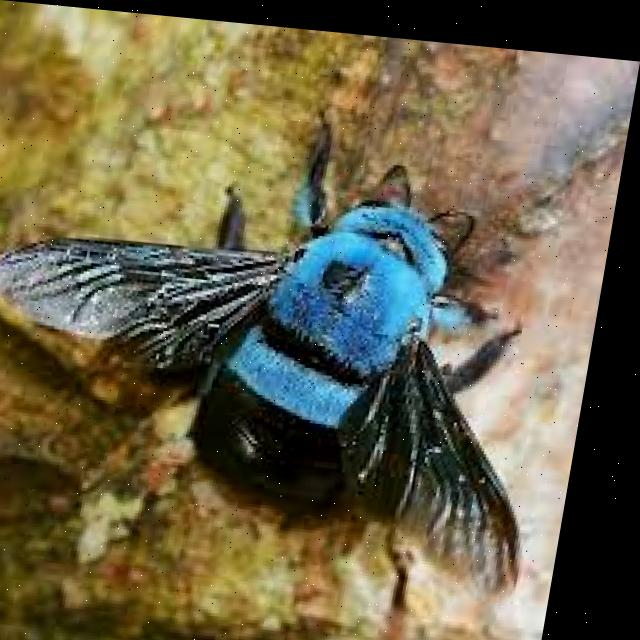Xylocopa: (0, 120, 622, 590)
